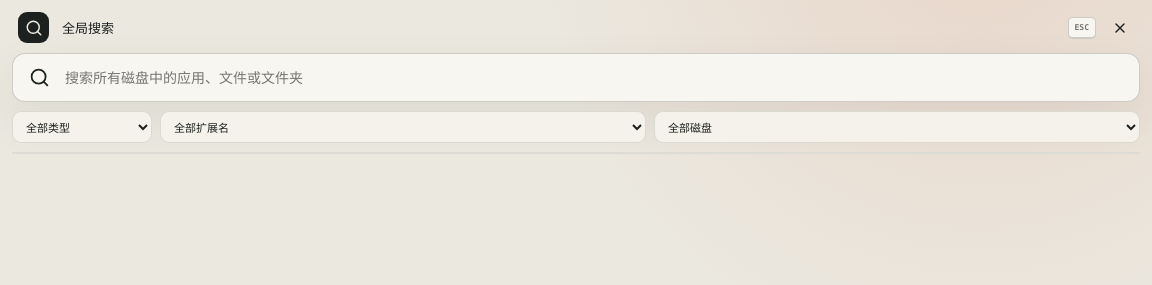
QuickOverlay › ignores a slow stale search after a newer query has completed
Type "old" into the field with placeholder "搜索所有磁盘中的应用、文件或文件夹". click: (593, 78)
box: [63,67,1123,88]
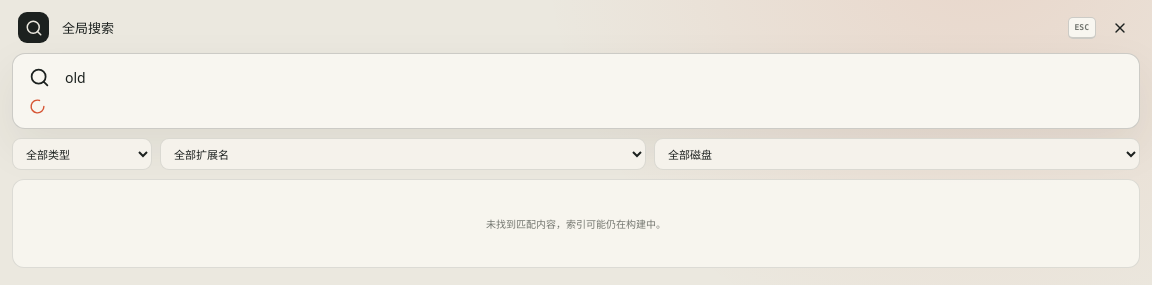
Replace the text in the field with placeholder "搜索所有磁盘中的应用、文件或文件夹" with "new". click: (593, 78)
box: [63,67,1123,88]
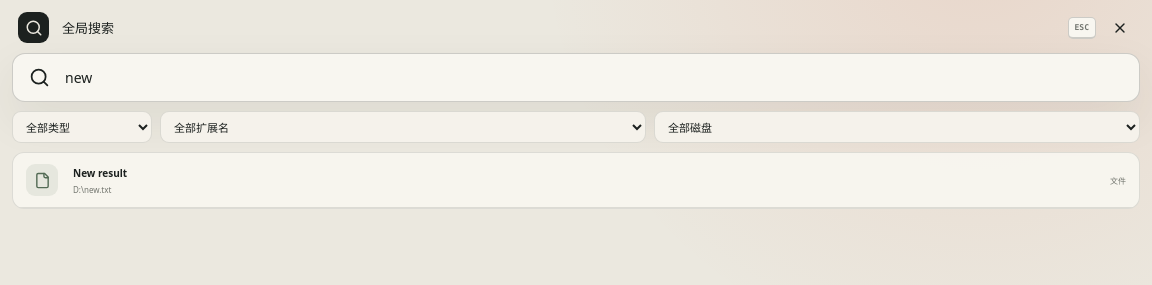
Now the text "New result" is shown, box [73,166,127,180]
